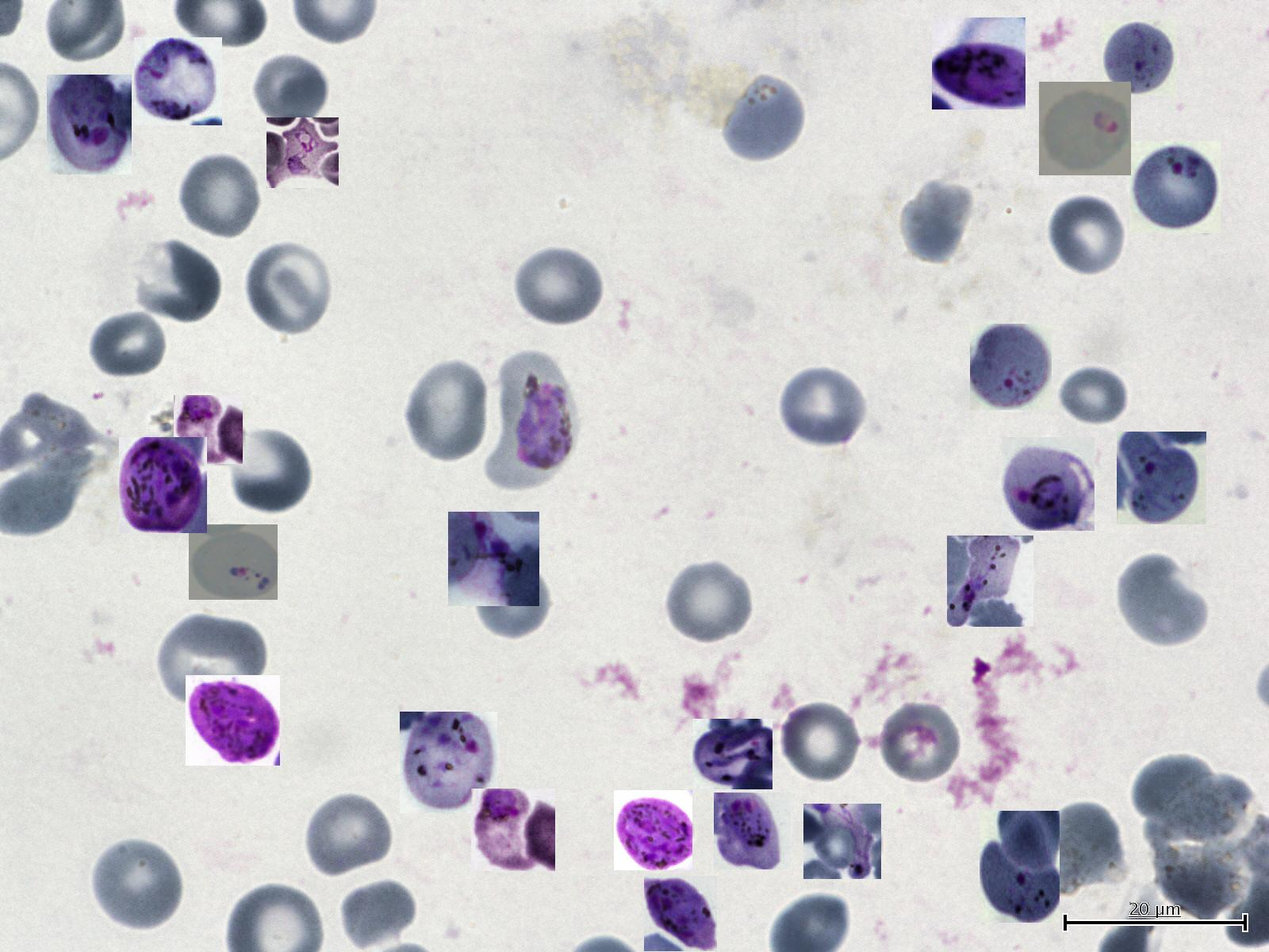Infected: (484, 350, 578, 489), (400, 712, 497, 813), (980, 811, 1060, 923), (1002, 437, 1095, 531), (1039, 82, 1131, 175), (932, 18, 1026, 109), (186, 675, 280, 766), (448, 512, 539, 606), (47, 75, 132, 175), (1129, 141, 1221, 233), (119, 437, 207, 533), (1117, 432, 1206, 524), (947, 536, 1033, 627), (134, 37, 222, 125), (970, 324, 1052, 410), (471, 789, 555, 871), (189, 524, 278, 600), (615, 790, 693, 870), (714, 793, 791, 869), (803, 804, 881, 879), (1102, 20, 1177, 96), (692, 719, 773, 789), (644, 876, 717, 951), (266, 117, 339, 188), (174, 395, 243, 464)
Uninfected: (158, 613, 265, 716), (1133, 754, 1252, 838), (1114, 553, 1210, 648), (403, 359, 489, 464), (90, 836, 184, 931), (243, 240, 335, 337), (1148, 833, 1244, 925), (302, 792, 395, 880), (776, 365, 870, 451), (664, 558, 755, 646), (876, 698, 963, 787), (722, 74, 807, 164), (513, 244, 604, 328), (1044, 800, 1124, 894), (177, 152, 262, 240), (778, 701, 862, 785), (899, 178, 977, 266), (1047, 194, 1128, 278), (136, 243, 219, 323), (234, 430, 312, 512), (251, 51, 330, 131), (471, 560, 550, 640), (87, 309, 168, 381), (339, 878, 418, 951), (1056, 361, 1130, 432)
